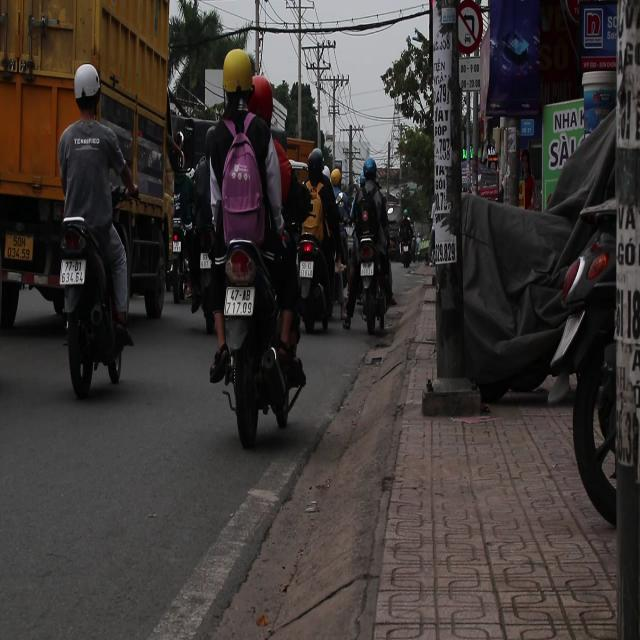motorbike: (208, 235, 300, 446), (56, 213, 128, 397), (344, 166, 396, 334), (394, 215, 418, 268)
